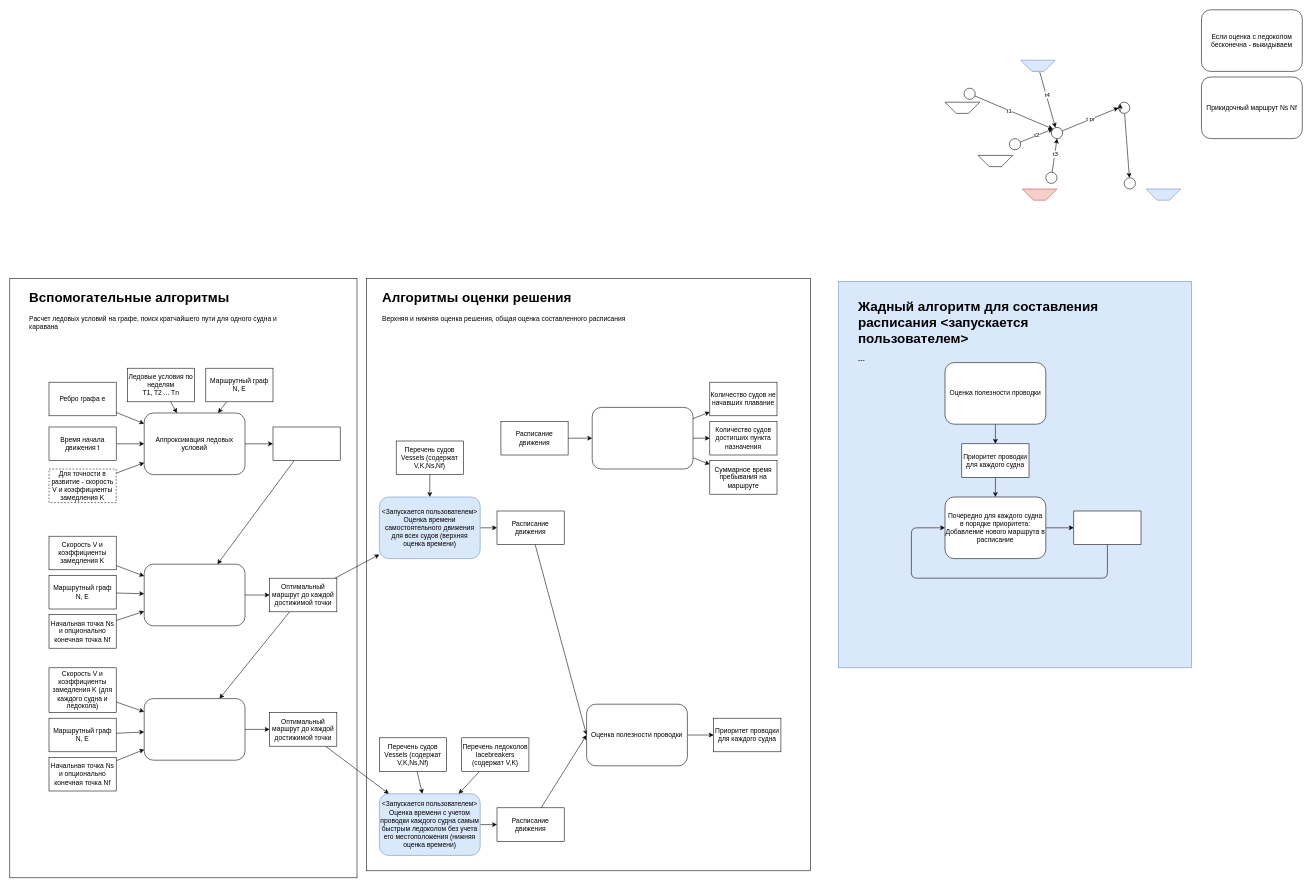
The diagram is 1312 pixels wide and 888 high, and some of its shapes have lost their labels. The centre of each missing label's shape, as x and y in pixels:
"Ледовая обстановка на ребре e в момент времени t" goes at (x=306, y=443).
"Общая оценка результата" goes at (x=642, y=438).
"Расчет оптимального маршрута (модифицированный алгоритм Деикстры)" goes at (x=194, y=595).
"Расчет оптимального маршрута движения каравана" goes at (x=194, y=729).
"Текущее расписание" goes at (x=1107, y=527).
